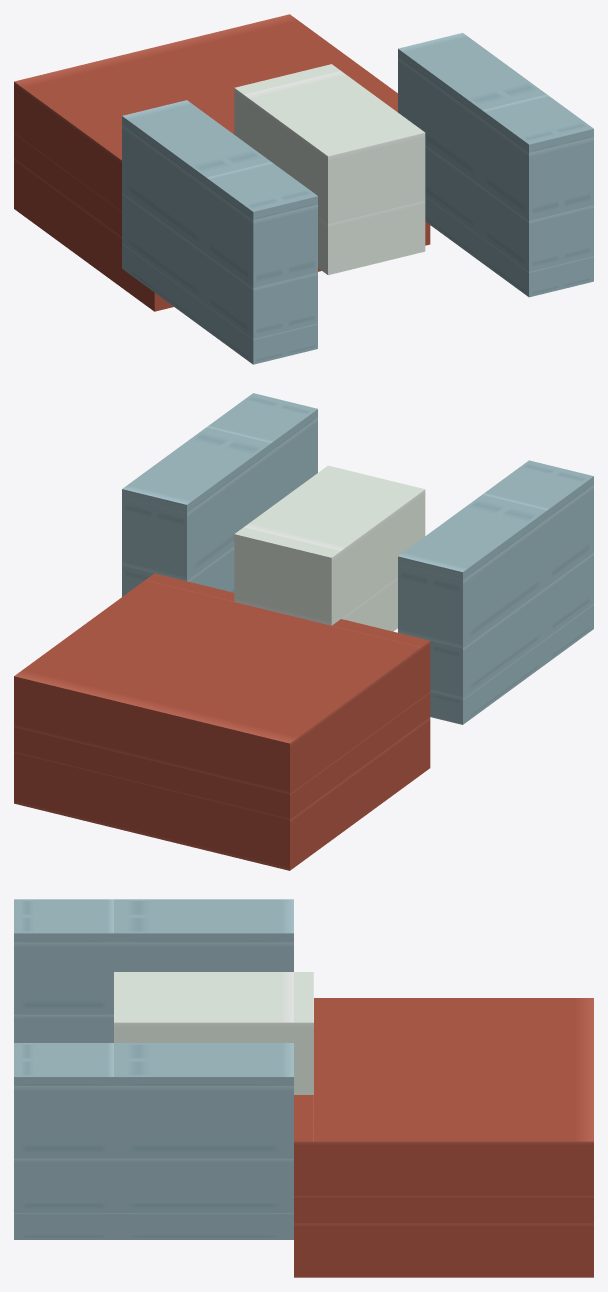
Rendered from sc_mount_remote_control.obj.
3 renders of one model, top to bottom at view 1: azimuth 30°, elevation 25°; view 2: azimuth 150°, elevation 25°; view 3: azimuth 270°, elevation 25°, orthographic. The views are drawn at different scales.
Size of the model in its own units: 4.2 by 2.4 by 5.8.
Materials: 1 (1 with a texture image).
